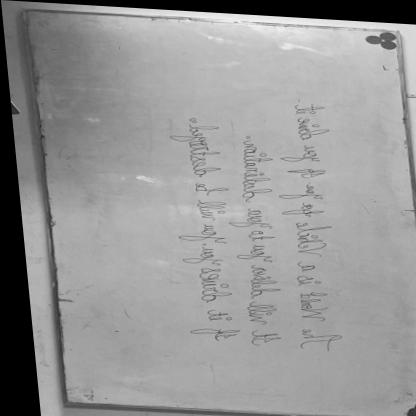Handwritten text: (265, 97, 349, 352), (145, 117, 238, 341), (222, 135, 284, 348)
Whiteboard: (23, 9, 416, 416)
